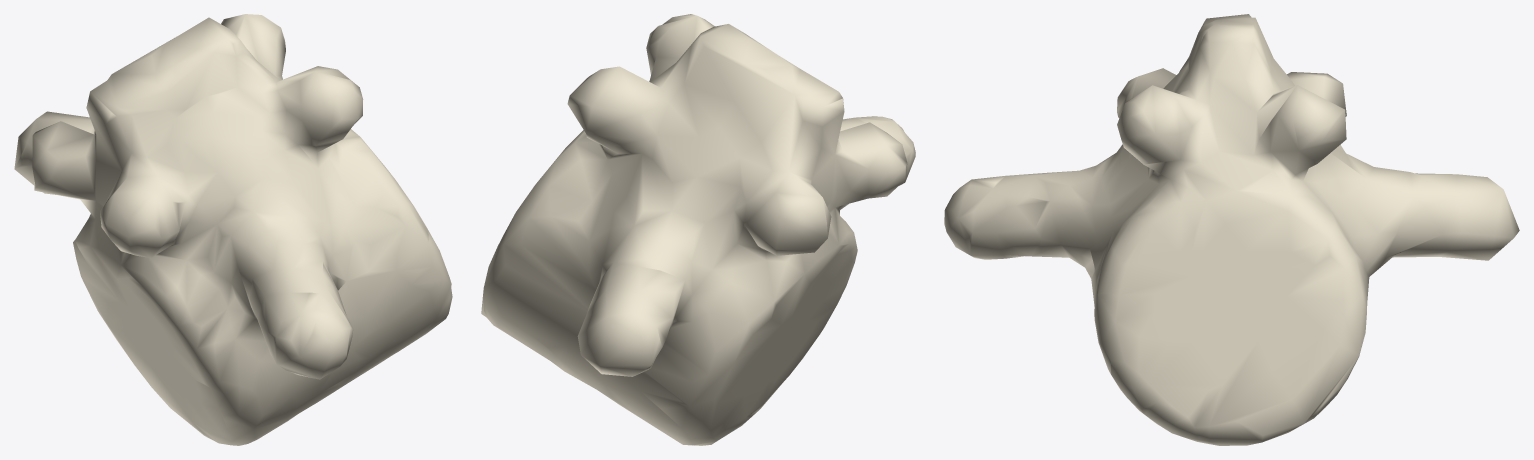
The model's file is cervical_2.glb.
3 views of the same model, side by side, from view 1: azimuth 30°, elevation 25°; view 2: azimuth 150°, elevation 25°; view 3: azimuth 270°, elevation 25° (orthographic). The views are drawn at different scales.
Visible parts, largest first — view 1: geometry_0; view 2: geometry_0; view 3: geometry_0.
Boxes of the visible parts, bbox=[...] form: geometry_0: bbox=[14, 14, 452, 445]; geometry_0: bbox=[481, 14, 915, 445]; geometry_0: bbox=[944, 14, 1519, 445].
Bounding box in the file's own units: 0.1469 × 0.1614 × 0.2111.
